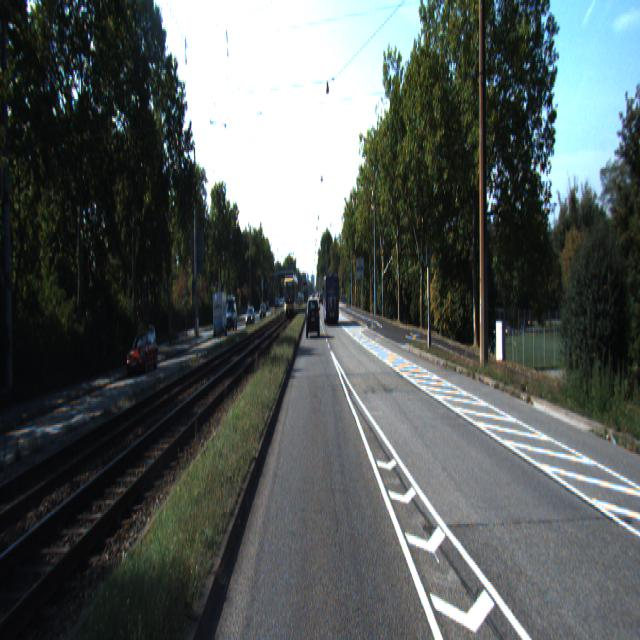Car: (126, 331, 158, 379), (323, 276, 339, 326), (212, 292, 228, 340), (306, 297, 320, 338)
